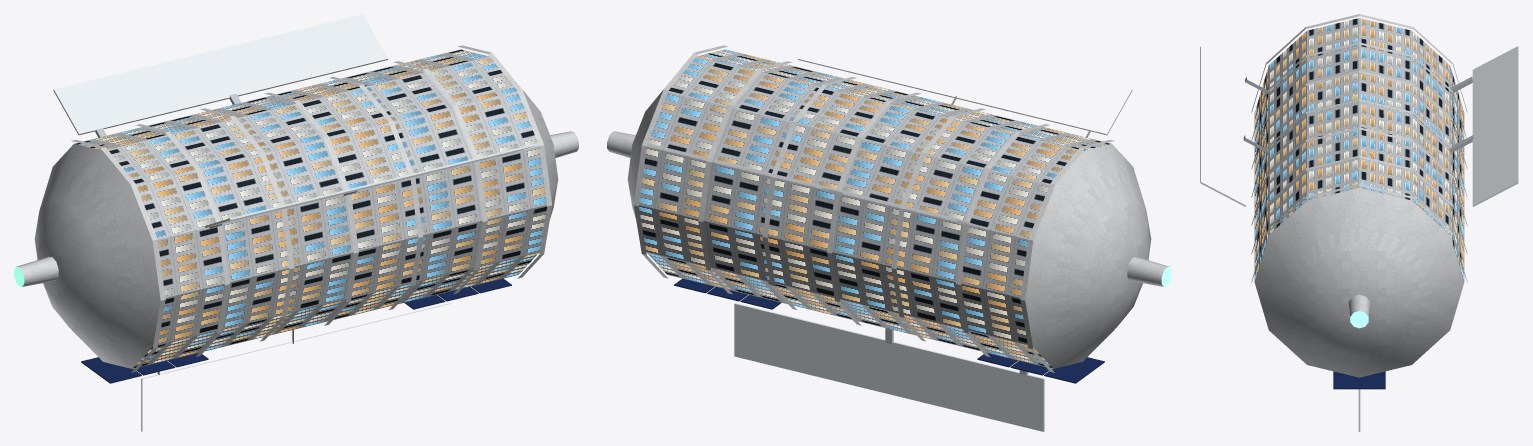
The model's file is orbital_spindle_village.glb.
3 views of the same model, side by side, from view 1: azimuth 30°, elevation 25°; view 2: azimuth 150°, elevation 25°; view 3: azimuth 270°, elevation 25° (orthographic). The views are drawn at different scales.
Parts seen in each view (by area): view 1: orbital_spindle_village_LOD0; view 2: orbital_spindle_village_LOD0; view 3: orbital_spindle_village_LOD0.
Part boxes in pixels (<box>): orbital_spindle_village_LOD0: <box>14,14,578,431</box>; orbital_spindle_village_LOD0: <box>607,45,1171,431</box>; orbital_spindle_village_LOD0: <box>1200,14,1518,431</box>.
Size of what is drawn, in the model's own units: 66 by 33.36 by 36.47.
3 materials, 3 textured.
